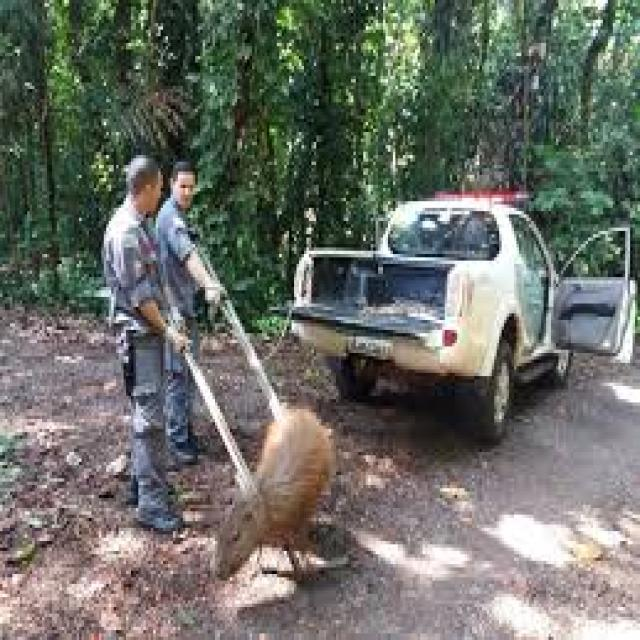capy: (210, 405, 336, 584)
